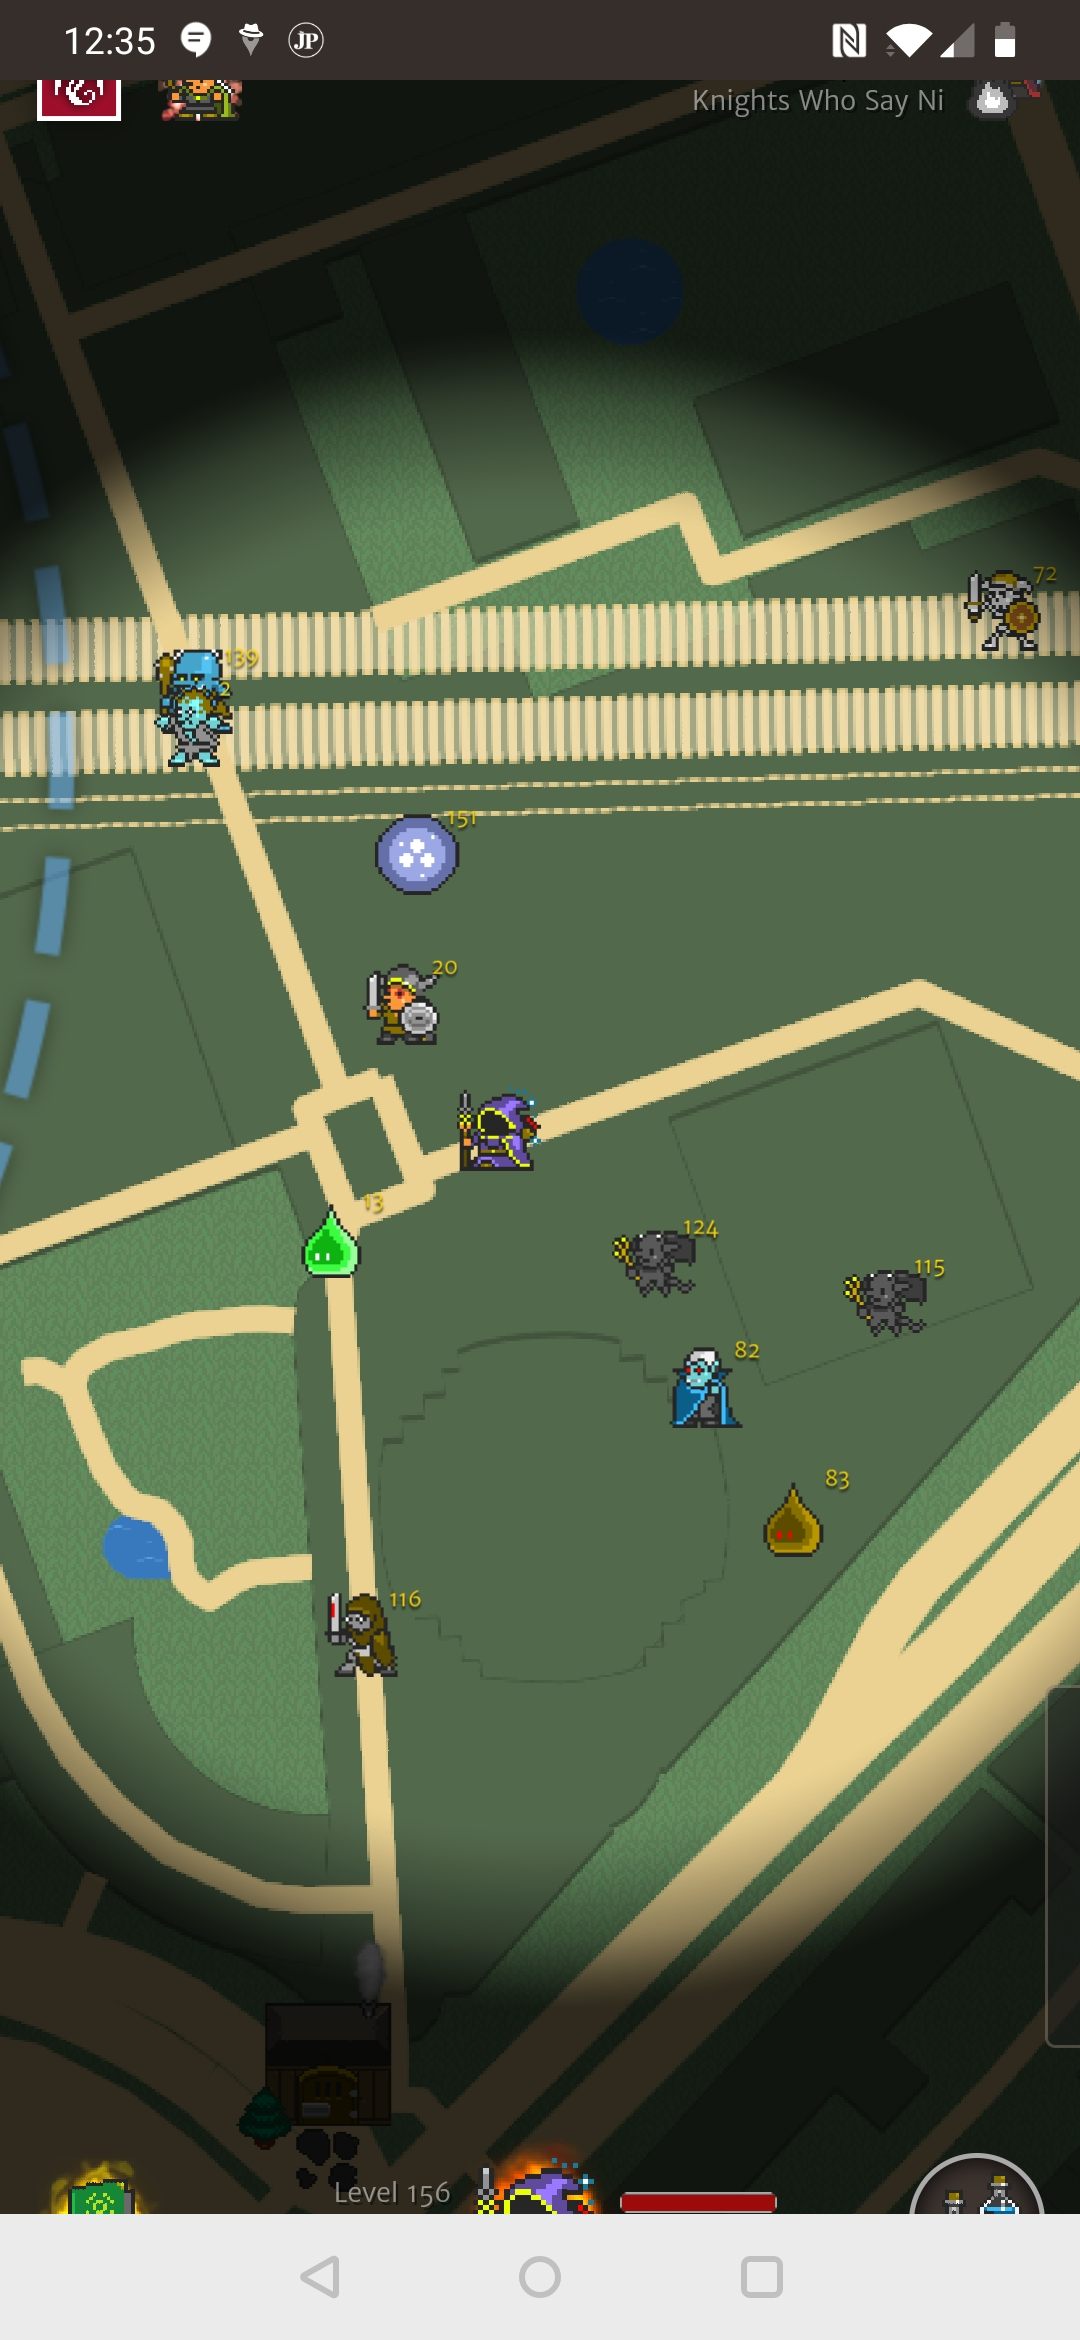monster: (305, 1586, 433, 1709), (838, 1253, 954, 1363), (349, 955, 464, 1063), (762, 1458, 859, 1576), (374, 804, 480, 912), (603, 1222, 726, 1314), (282, 1189, 392, 1289), (959, 558, 1064, 663), (667, 1335, 764, 1445), (154, 653, 262, 712)
player: (446, 1086, 551, 1189)
